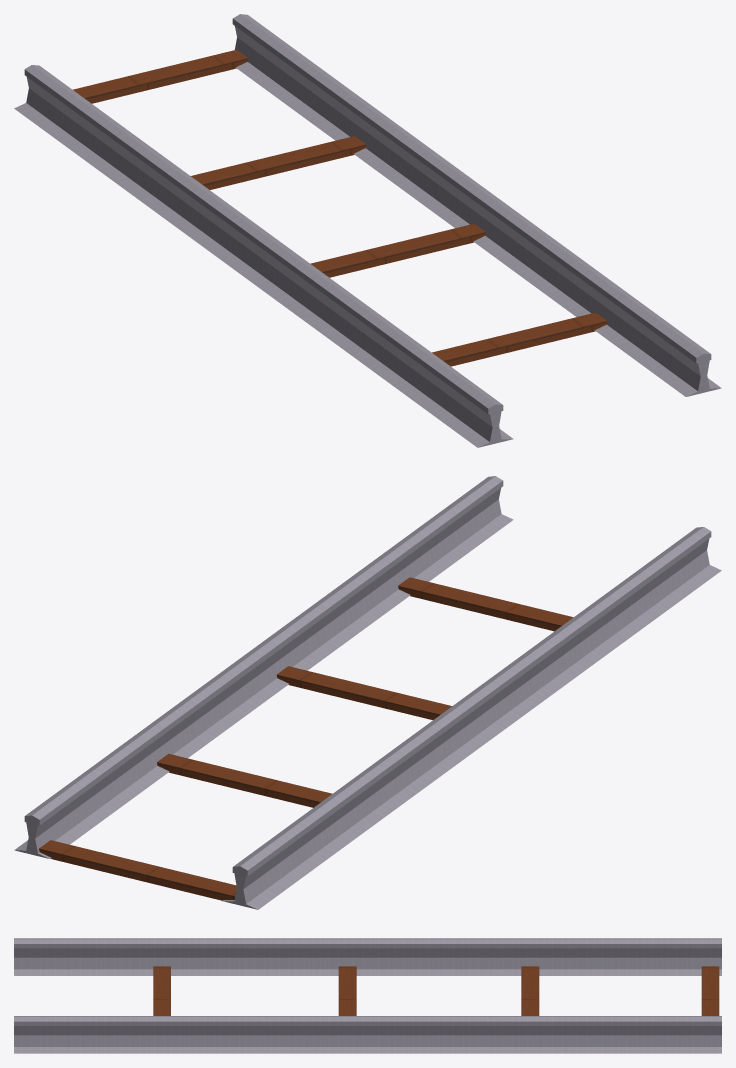
Rendered from TrackSection.fbx.
3 renders of one model, top to bottom at view 1: azimuth 30°, elevation 25°; view 2: azimuth 150°, elevation 25°; view 3: azimuth 270°, elevation 25°, orthographic. The views are drawn at different scales.
Visible parts, largest first — view 1: TrackSection; view 2: TrackSection; view 3: TrackSection.
Boxes of the visible parts, left/top/right/bottom form: TrackSection: left=14, top=14, right=721, bottom=447; TrackSection: left=14, top=476, right=721, bottom=909; TrackSection: left=14, top=938, right=721, bottom=1053.
Bounding box in the file's own units: 575 × 91.35 × 1891.
